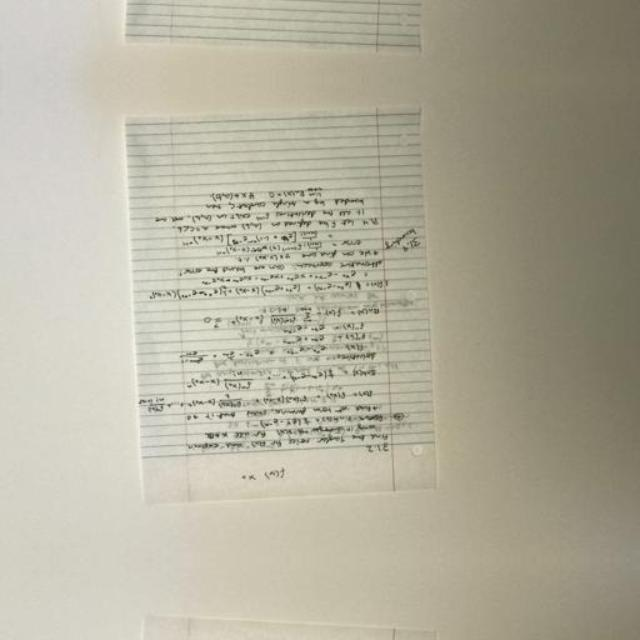paper: (106, 98, 457, 500), (105, 0, 456, 62), (105, 619, 456, 640)
